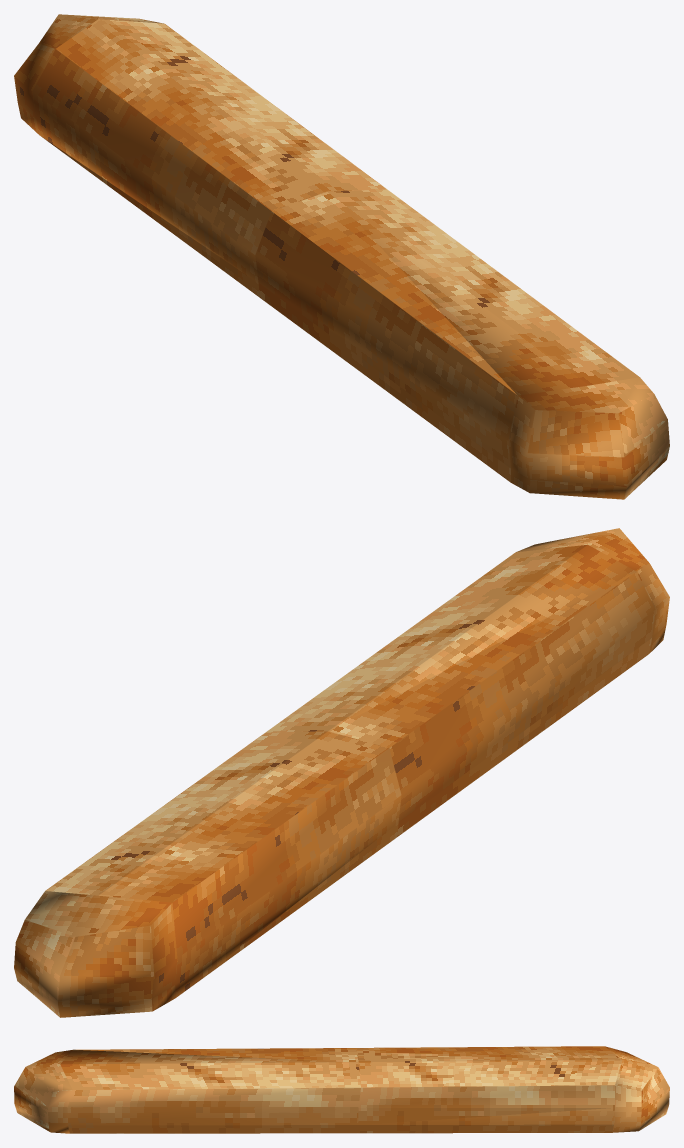
The model's file is baguette.glb.
3 renders of one model, top to bottom at view 1: azimuth 30°, elevation 25°; view 2: azimuth 150°, elevation 25°; view 3: azimuth 270°, elevation 25°, orthographic. The views are drawn at different scales.
Parts seen in each view (by area): view 1: baguette; view 2: baguette; view 3: baguette.
Part boxes in pixels (x1,y1,x2,y2): baguette: (14,14,669,499); baguette: (14,528,669,1017); baguette: (14,1046,669,1133).
Size of the model in its own units: 0.1773 by 0.1121 by 1.19.
1 material, 1 textured.
